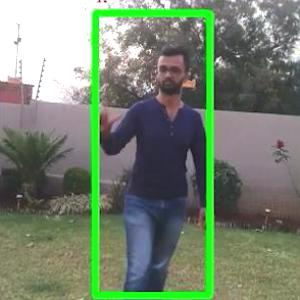land_hand: (89, 100, 124, 139)
